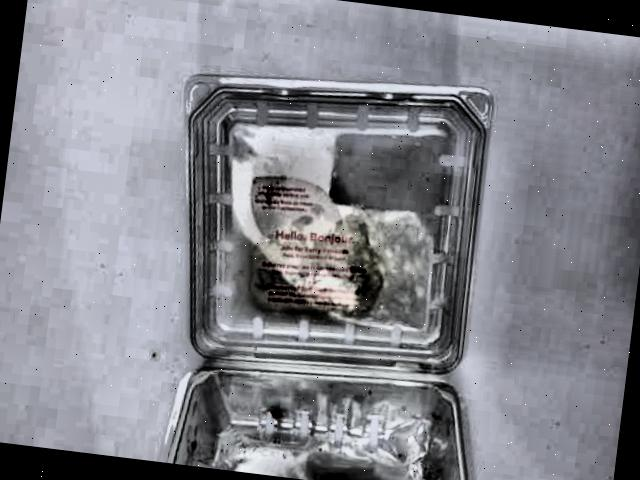Plastic: (141, 50, 529, 480)
